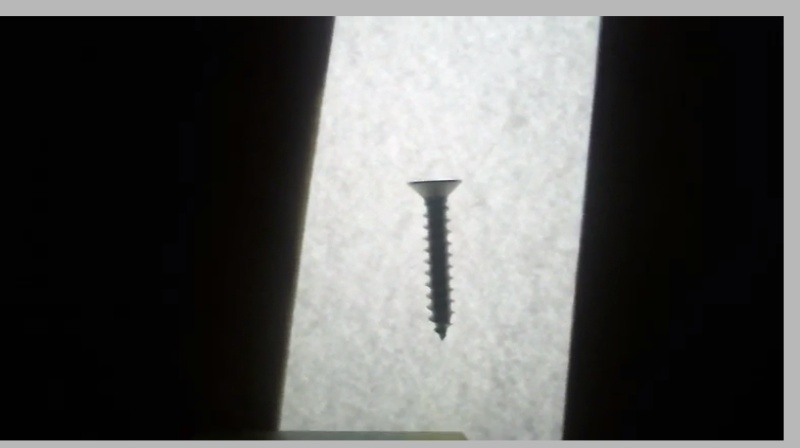S001: (407, 176, 462, 343)
